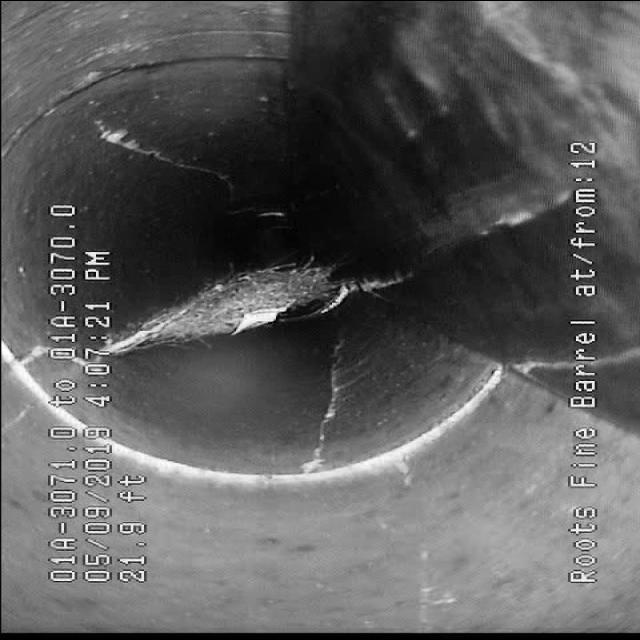Crack: (284, 339, 371, 454)
